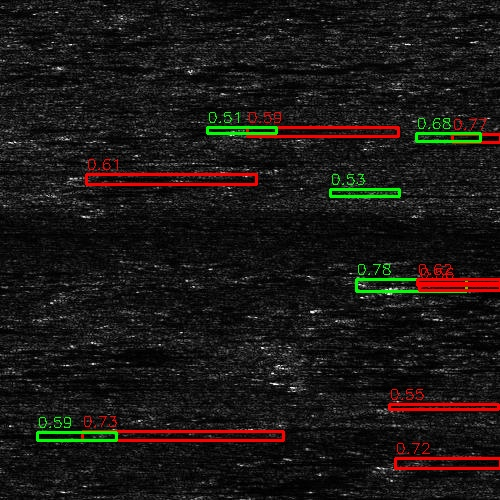rock: (318, 277, 475, 292), (56, 429, 129, 442), (203, 421, 286, 432), (13, 186, 96, 197), (209, 127, 302, 136), (338, 403, 421, 412), (359, 189, 390, 198), (0, 440, 32, 447)
shadow: (93, 429, 444, 442), (245, 421, 403, 432), (397, 277, 500, 292), (256, 127, 402, 136), (380, 403, 500, 412), (55, 186, 147, 197), (375, 189, 477, 198), (1, 440, 99, 447), (0, 165, 62, 170), (0, 430, 58, 435), (0, 265, 30, 274)
